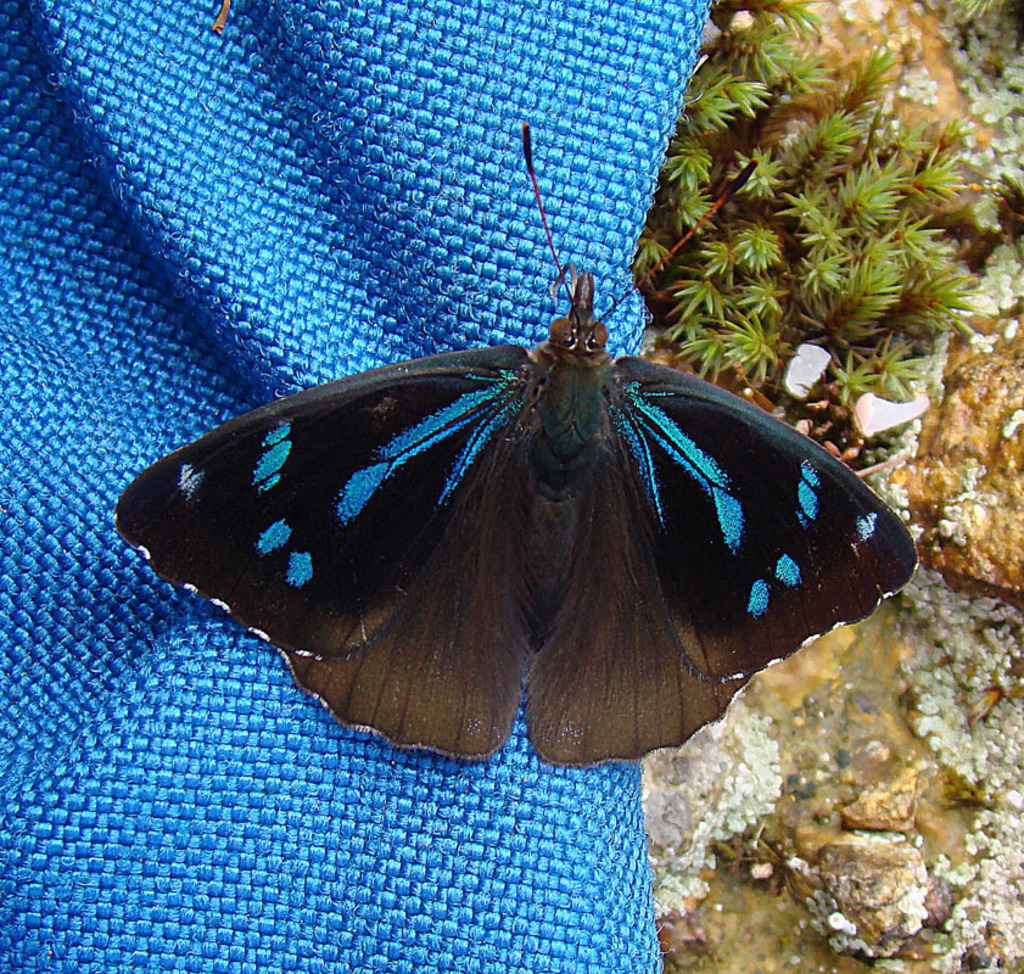Butterfly: (106, 241, 916, 765)
